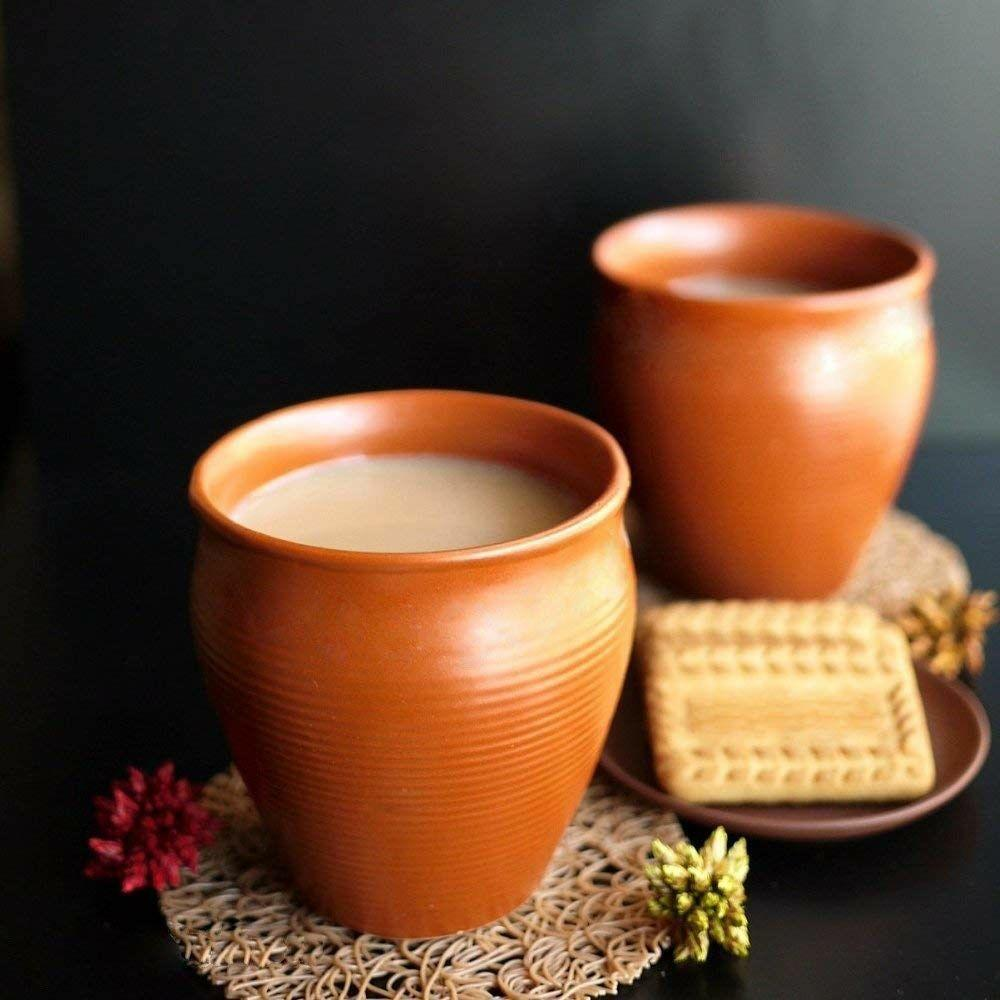Chai: (221, 457, 586, 548)
